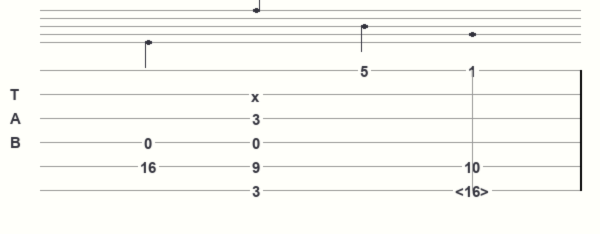0: (144, 135, 156, 150), (252, 135, 264, 150)
1: (468, 63, 480, 78)
10: (464, 159, 484, 174)
16: (140, 159, 160, 174)
3: (252, 183, 264, 198), (252, 111, 264, 126)
5: (360, 63, 372, 78)
9: (252, 159, 264, 174)
harmonic: (455, 183, 493, 198)
x: (251, 88, 264, 100)
